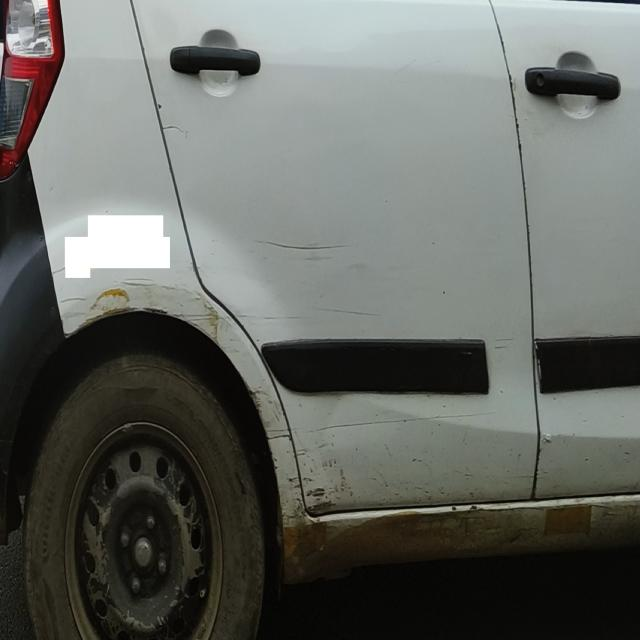scratch: (54, 280, 221, 353), (305, 410, 498, 440), (283, 470, 358, 528), (236, 305, 386, 332), (248, 234, 357, 266), (247, 384, 294, 454), (492, 333, 517, 357), (160, 124, 190, 140), (542, 433, 554, 451)
